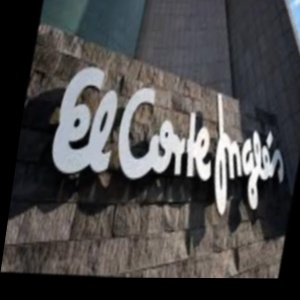corte_ingles: (265, 79, 300, 151)
